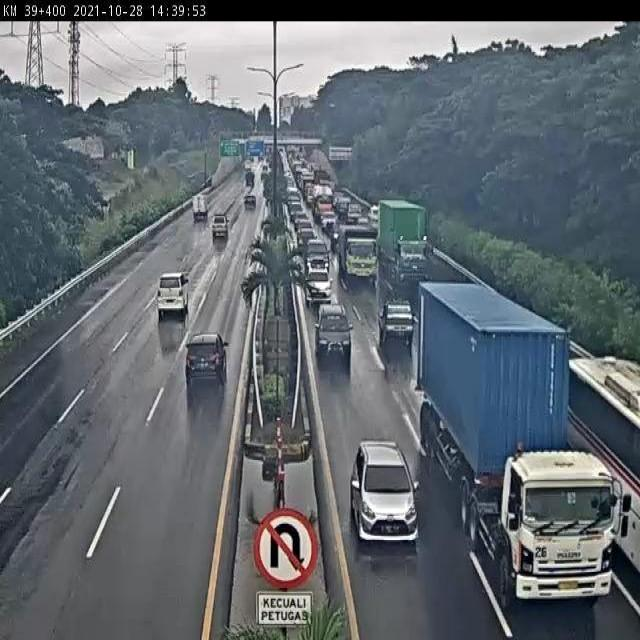car: (348, 421, 429, 564), (182, 330, 234, 392), (151, 260, 200, 320), (314, 303, 356, 373)
truck-l-: (413, 270, 624, 630), (381, 186, 439, 304)
truck-m-: (336, 223, 382, 300)
